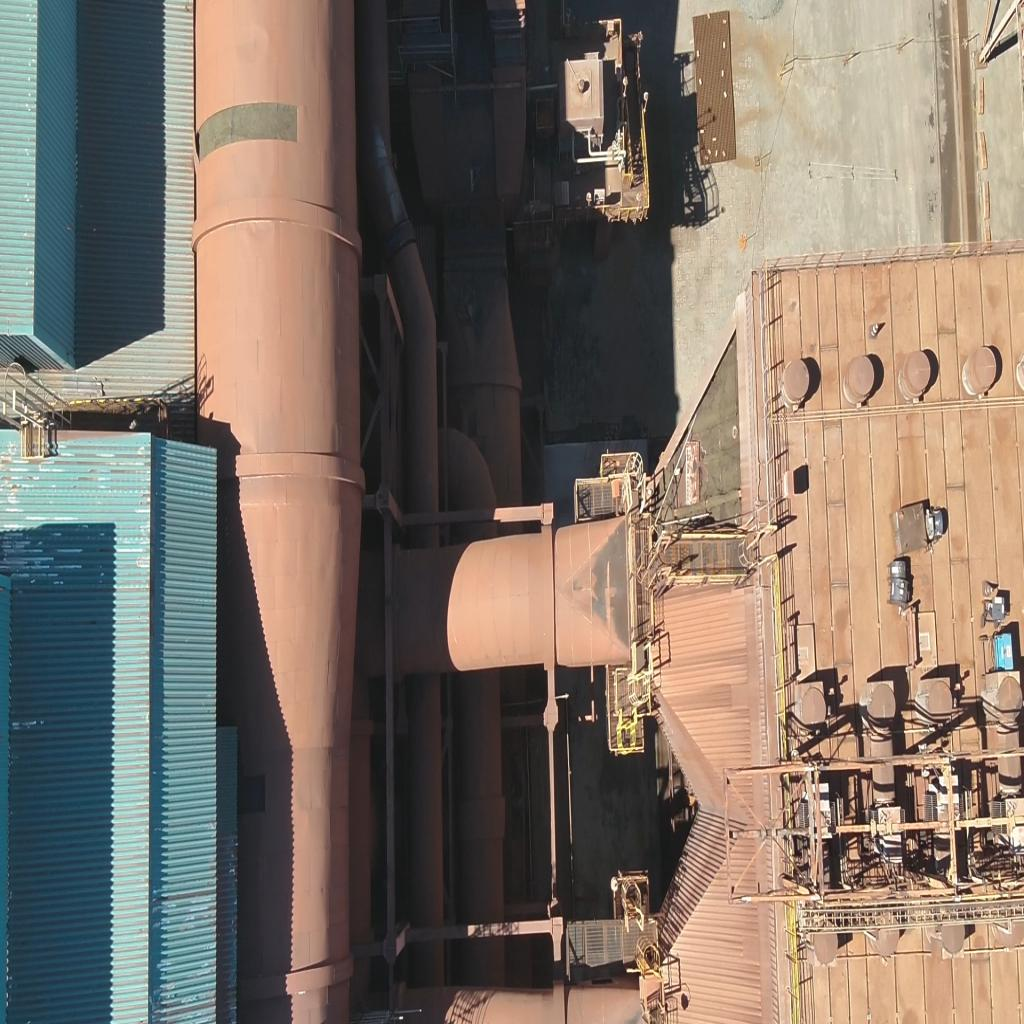Failures: (664, 344, 748, 562), (193, 87, 295, 166)
